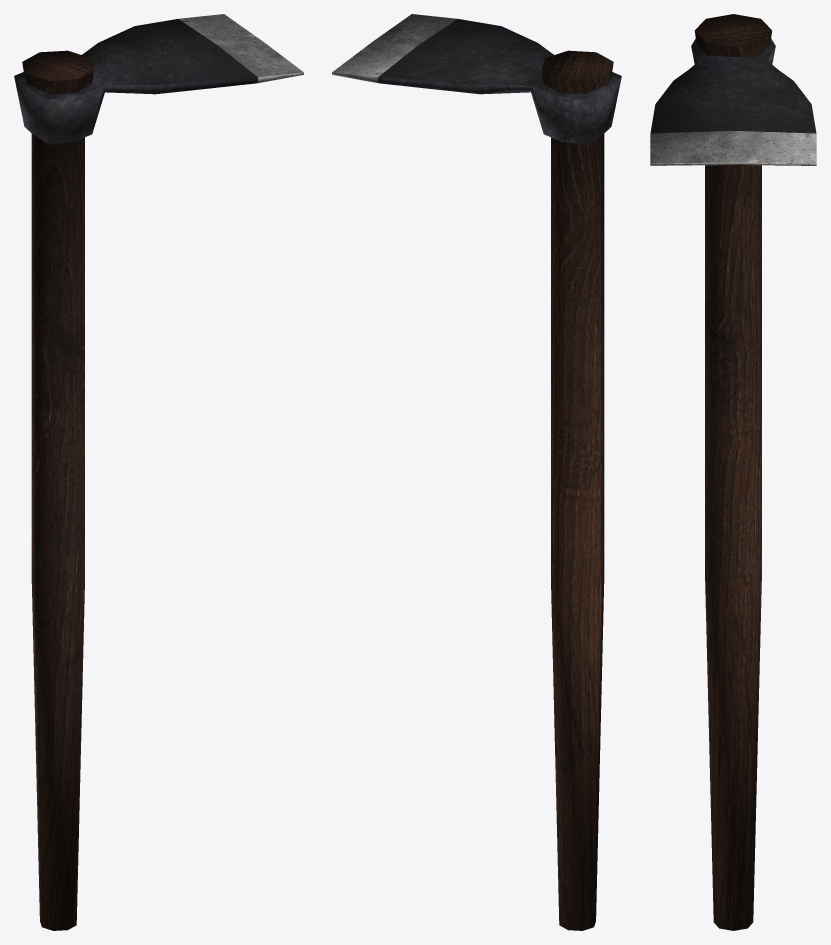
Rendered from pickaxe2.fbx.
The picture shows the model from 3 angles, left to right: view 1: azimuth 30°, elevation 25°; view 2: azimuth 150°, elevation 25°; view 3: azimuth 270°, elevation 25°; orthographic projection. The views are drawn at different scales.
Visible parts, largest first — view 1: Cube.004; view 2: Cube.004; view 3: Cube.004.
Boxes of the visible parts, x1,y1,x2,y2 form: Cube.004: (14,14,303,930); Cube.004: (332,14,621,930); Cube.004: (650,14,816,930).
Bounding box in the file's own units: 26.82 × 15.41 × 91.35.
3 materials, 3 textured.
